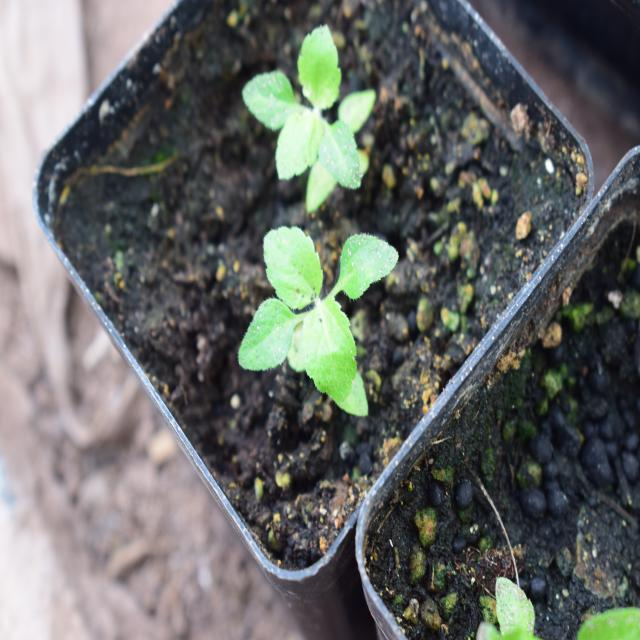billygoat_weed: (241, 211, 400, 424), (246, 17, 373, 210)
